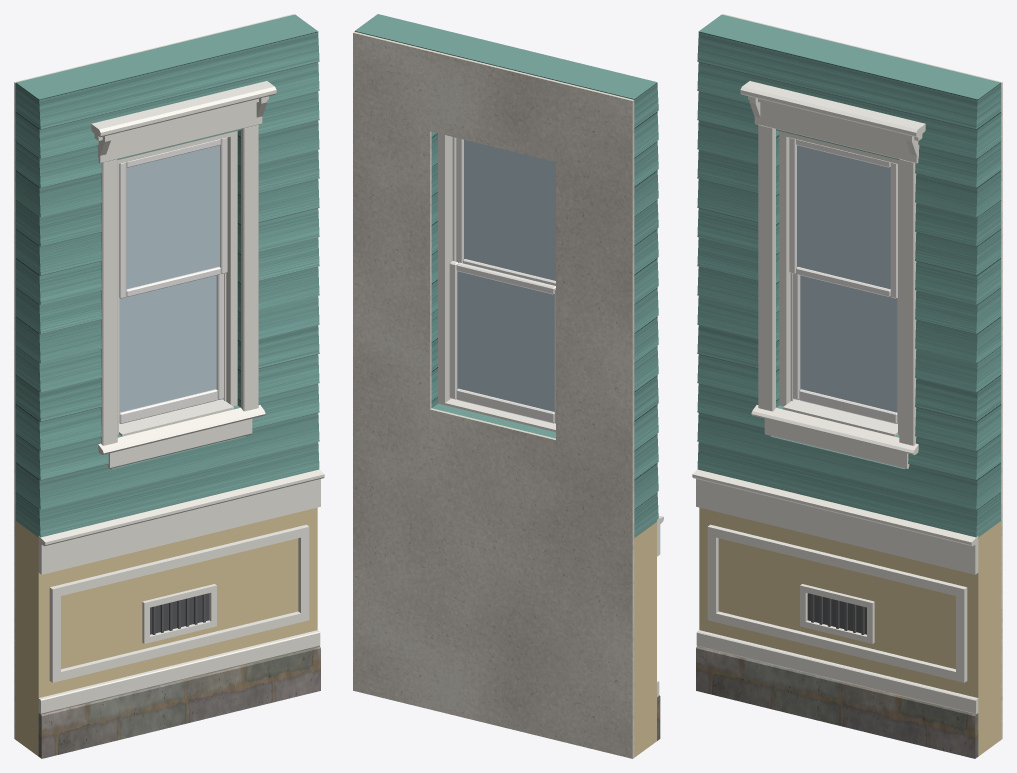
The model's file is b_g_win_c.glb.
3 renders of one model, left to right at view 1: azimuth 30°, elevation 25°; view 2: azimuth 150°, elevation 25°; view 3: azimuth 330°, elevation 25°, orthographic.
Parts seen in each view (by area): view 1: b_g_win_c_siding_c, b_g_win_c_trim, b_g_win_c_acc_c, b_g_win_c_glass, b_g_win_c_plinth, b_g_win_c_sash, b_g_win_c_frame, b_g_win_c_plaster, b_g_win_c_dark, b_g_win_c_iron; view 2: b_g_win_c_plaster, b_g_win_c_glass, b_g_win_c_siding_c, b_g_win_c_sash, b_g_win_c_acc_c, b_g_win_c_frame, b_g_win_c_trim; view 3: b_g_win_c_siding_c, b_g_win_c_trim, b_g_win_c_acc_c, b_g_win_c_glass, b_g_win_c_plinth, b_g_win_c_sash, b_g_win_c_frame, b_g_win_c_plaster, b_g_win_c_dark, b_g_win_c_iron.
Part boxes in pixels (<box>): b_g_win_c_siding_c: <box>16,14,319,537</box>; b_g_win_c_trim: <box>38,81,324,713</box>; b_g_win_c_acc_c: <box>16,507,317,756</box>; b_g_win_c_glass: <box>119,145,219,412</box>; b_g_win_c_plinth: <box>38,646,320,758</box>; b_g_win_c_sash: <box>119,137,227,423</box>; b_g_win_c_frame: <box>117,131,237,434</box>; b_g_win_c_plaster: <box>14,14,293,739</box>; b_g_win_c_dark: <box>150,593,209,634</box>; b_g_win_c_iron: <box>152,594,205,634</box>; b_g_win_c_plaster: <box>353,31,634,758</box>; b_g_win_c_glass: <box>457,139,555,411</box>; b_g_win_c_siding_c: <box>354,14,658,537</box>; b_g_win_c_sash: <box>449,138,555,423</box>; b_g_win_c_acc_c: <box>634,522,656,757</box>; b_g_win_c_frame: <box>438,133,456,404</box>; b_g_win_c_trim: <box>445,398,663,696</box>; b_g_win_c_siding_c: <box>697,14,1000,537</box>; b_g_win_c_trim: <box>692,81,978,713</box>; b_g_win_c_acc_c: <box>699,507,1000,756</box>; b_g_win_c_glass: <box>797,145,897,412</box>; b_g_win_c_plinth: <box>696,646,978,758</box>; b_g_win_c_sash: <box>789,137,897,423</box>; b_g_win_c_frame: <box>779,131,899,434</box>; b_g_win_c_plaster: <box>723,14,1002,739</box>; b_g_win_c_dark: <box>807,593,866,634</box>; b_g_win_c_iron: <box>811,594,864,634</box>.
Bounding box in the file's own units: 2 × 4.5 × 0.43.
Materials: 10 (3 with a texture image).
